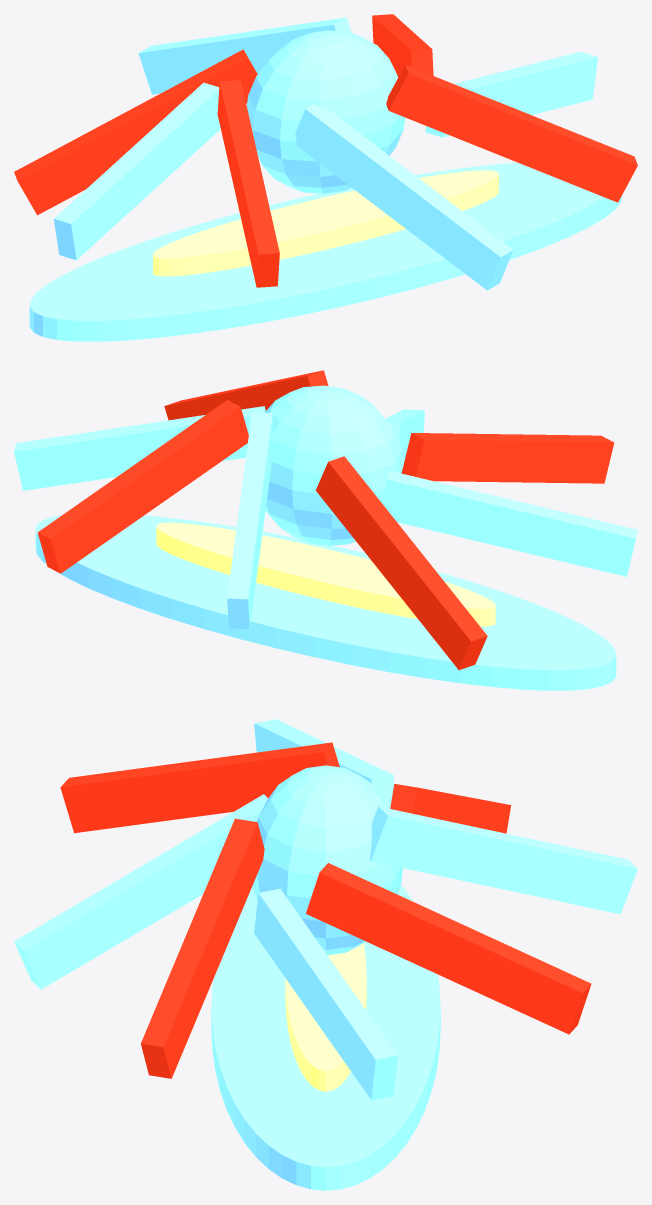
Rendered from soul_ward_hit.glb.
The picture shows the model from 3 angles, top to bottom: view 1: azimuth 30°, elevation 25°; view 2: azimuth 150°, elevation 25°; view 3: azimuth 270°, elevation 25°; orthographic projection. The views are drawn at different scales.
Visible parts, largest first — view 1: soul ward reflected halo, soul ward reflected heart, soul ward backlash lash 7, soul ward backlash lash 6, soul ward inner backlash, soul ward backlash lash 4, soul ward backlash lash 3, soul ward backlash lash 5, soul ward backlash lash 2, soul ward backlash lash 0, soul ward backlash lash 1; view 2: soul ward reflected halo, soul ward reflected heart, soul ward backlash lash 4, soul ward backlash lash 1, soul ward inner backlash, soul ward backlash lash 3, soul ward backlash lash 5, soul ward backlash lash 0, soul ward backlash lash 2, soul ward backlash lash 7, soul ward backlash lash 6; view 3: soul ward reflected halo, soul ward backlash lash 1, soul ward backlash lash 2, soul ward reflected heart, soul ward backlash lash 6, soul ward backlash lash 5, soul ward backlash lash 7, soul ward backlash lash 0, soul ward inner backlash, soul ward backlash lash 3, soul ward backlash lash 4.
Boxes of the visible parts, bbox=[...] form: soul ward reflected halo: bbox=[29, 162, 622, 341]; soul ward reflected heart: bbox=[246, 30, 405, 193]; soul ward backlash lash 7: bbox=[386, 64, 637, 202]; soul ward backlash lash 6: bbox=[295, 104, 513, 290]; soul ward inner backlash: bbox=[153, 170, 498, 276]; soul ward backlash lash 4: bbox=[54, 82, 220, 260]; soul ward backlash lash 3: bbox=[14, 49, 257, 215]; soul ward backlash lash 5: bbox=[217, 80, 279, 287]; soul ward backlash lash 2: bbox=[138, 17, 351, 94]; soul ward backlash lash 0: bbox=[425, 51, 597, 137]; soul ward backlash lash 1: bbox=[372, 14, 433, 76]; soul ward reflected halo: bbox=[35, 514, 616, 690]; soul ward reflected heart: bbox=[264, 385, 403, 545]; soul ward backlash lash 4: bbox=[382, 470, 637, 576]; soul ward backlash lash 1: bbox=[37, 400, 248, 573]; soul ward inner backlash: bbox=[156, 522, 495, 626]; soul ward backlash lash 3: bbox=[315, 456, 487, 669]; soul ward backlash lash 5: bbox=[401, 433, 614, 483]; soul ward backlash lash 0: bbox=[14, 406, 265, 490]; soul ward backlash lash 2: bbox=[227, 412, 273, 629]; soul ward backlash lash 7: bbox=[164, 370, 328, 420]; soul ward backlash lash 6: bbox=[385, 409, 424, 462]; soul ward reflected halo: bbox=[211, 884, 440, 1190]; soul ward backlash lash 1: bbox=[306, 863, 591, 1034]; soul ward backlash lash 2: bbox=[370, 806, 637, 914]; soul ward reflected heart: bbox=[252, 765, 402, 955]; soul ward backlash lash 6: bbox=[14, 794, 267, 989]; soul ward backlash lash 5: bbox=[60, 742, 339, 833]; soul ward backlash lash 7: bbox=[141, 818, 264, 1078]; soul ward backlash lash 0: bbox=[254, 888, 397, 1100]; soul ward inner backlash: bbox=[285, 943, 366, 1091]; soul ward backlash lash 3: bbox=[390, 784, 511, 833]; soul ward backlash lash 4: bbox=[254, 719, 394, 808].
Bounding box in the file's own units: 0.8862 × 0.325 × 0.7192.
